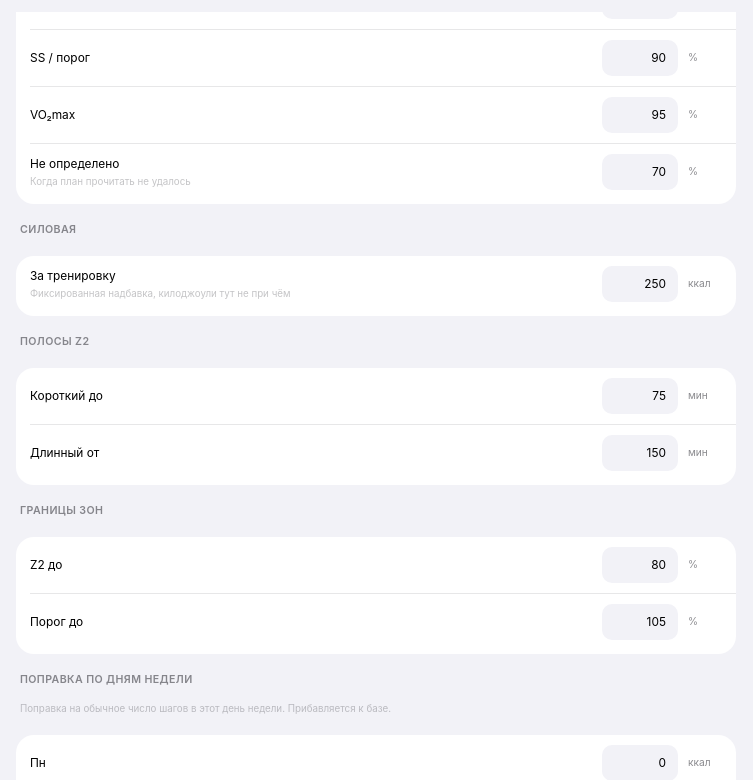
bounds › refuses inverted band edges, and says which pair
(page scrolled)
Replace the text in the field named "Короткий до" with "400" at point(640, 396), box [602,378,678,414]
(page scrolled)
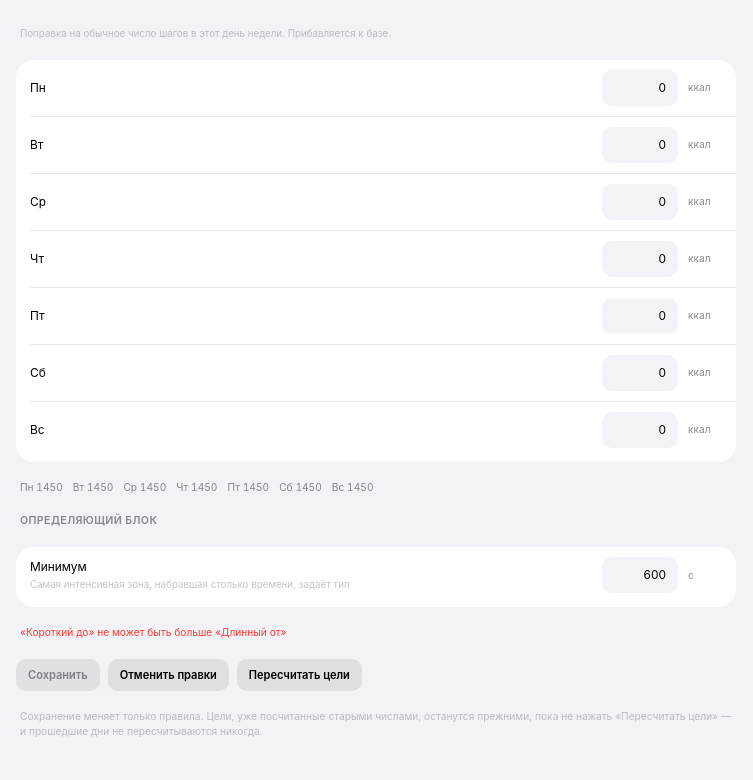
expect the text "«Короткий до» не может быть больше «Длинный от»" is shown: met, box [20,626,286,638]
expect the button "Сохранить" is disabled: met, box [16,659,100,691]
